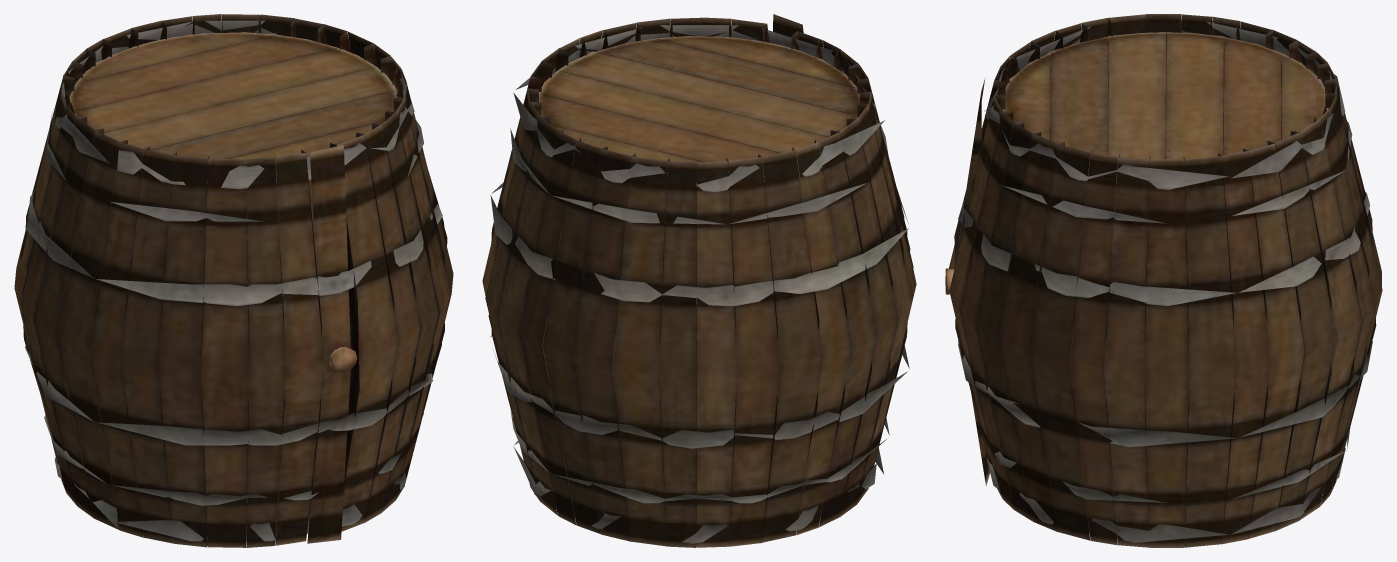
File: wine_barrel_01.glb
The picture shows the model from 3 angles, left to right: view 1: azimuth 30°, elevation 25°; view 2: azimuth 150°, elevation 25°; view 3: azimuth 270°, elevation 25°; orthographic projection.
Parts seen in each view (by area): view 1: wine_barrel_01, wine_barrel_01_Lid, wine_barrel_01_bung; view 2: wine_barrel_01, wine_barrel_01_Lid; view 3: wine_barrel_01, wine_barrel_01_Lid.
Boxes of the visible parts, <box> form: wine_barrel_01: <box>14,14,453,547</box>; wine_barrel_01_Lid: <box>69,32,397,165</box>; wine_barrel_01_bung: <box>329,347,357,372</box>; wine_barrel_01: <box>482,14,916,547</box>; wine_barrel_01_Lid: <box>539,36,859,163</box>; wine_barrel_01: <box>949,14,1382,547</box>; wine_barrel_01_Lid: <box>1003,32,1327,161</box>.
Bounding box in the file's own units: 1 × 1 × 1.
1 material, 1 textured.
